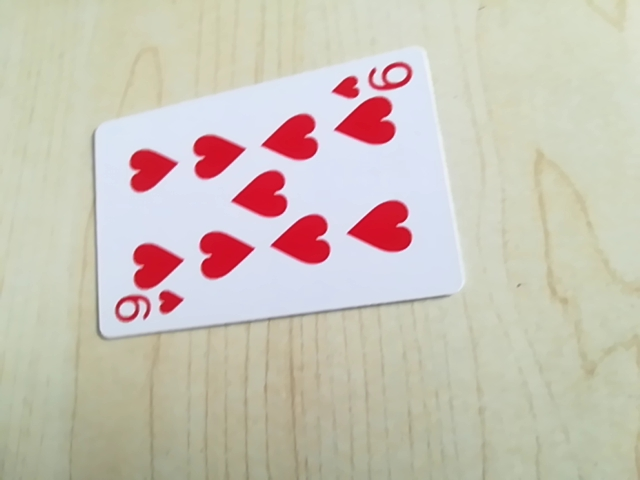hx 9: (328, 55, 419, 101), (110, 286, 185, 332)
